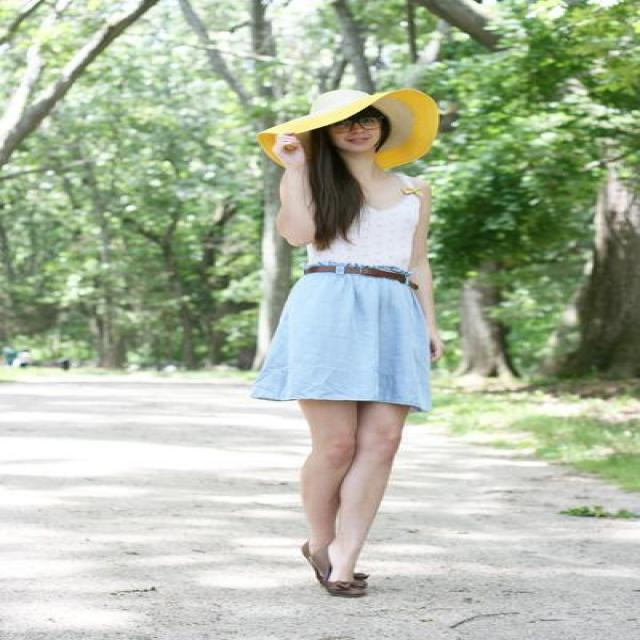hat: (259, 75, 442, 165)
shirt: (292, 173, 426, 276)
shoe: (310, 558, 366, 597)
skirt: (253, 273, 442, 410)
